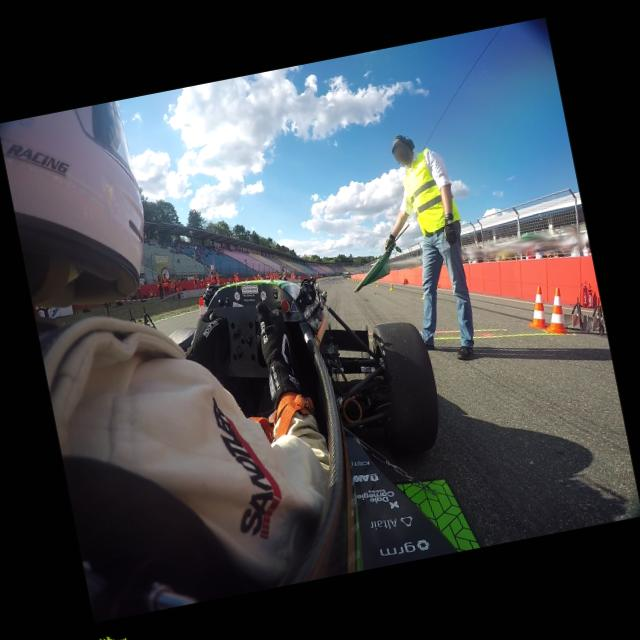large_orange_cone: (540, 286, 570, 338), (521, 284, 550, 332), (197, 296, 206, 316)
yellow_cone: (422, 290, 426, 298), (389, 283, 393, 290), (376, 282, 379, 286), (356, 278, 358, 282)
